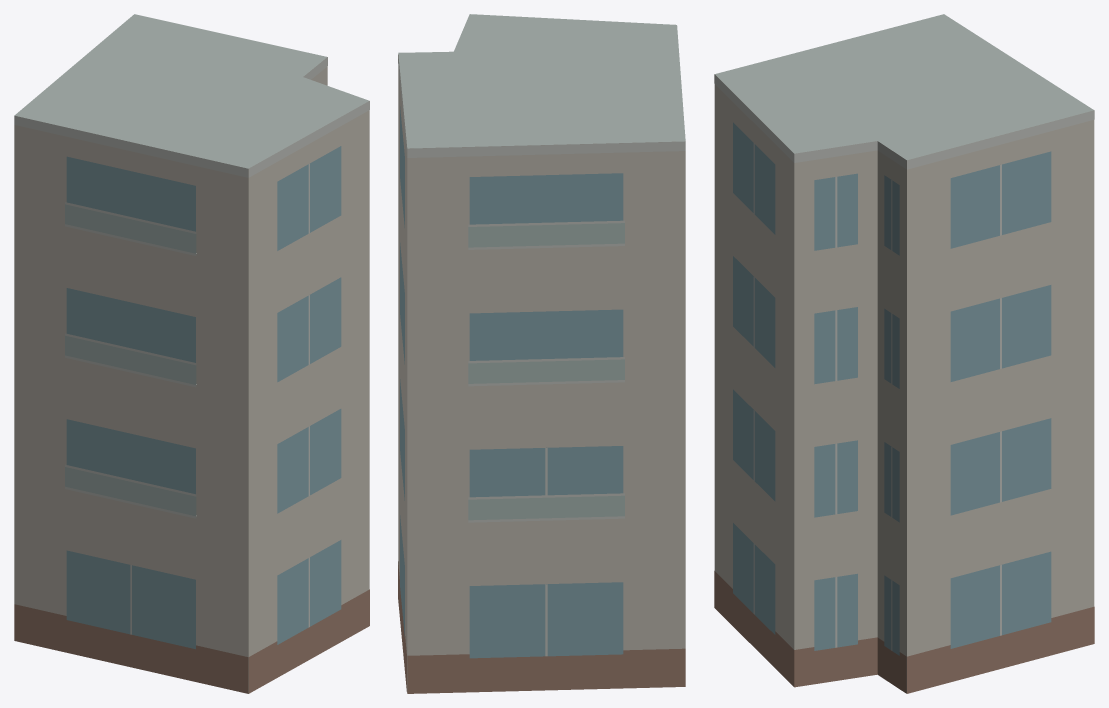
Rendered from survey-upis-32463835.glb.
The picture shows the model from 3 angles, left to right: view 1: azimuth 30°, elevation 25°; view 2: azimuth 150°, elevation 25°; view 3: azimuth 270°, elevation 25°; orthographic projection. The views are drawn at different scales.
Parts seen in each view (by area): view 1: survey-upis-32463835.tmp; view 2: survey-upis-32463835.tmp; view 3: survey-upis-32463835.tmp.
Boxes of the visible parts, left/top/right/bottom form: survey-upis-32463835.tmp: left=14, top=14, right=369, bottom=693; survey-upis-32463835.tmp: left=398, top=14, right=685, bottom=693; survey-upis-32463835.tmp: left=714, top=14, right=1094, bottom=693.
Size of the model in its own units: 8.18 by 13.9 by 8.98.
